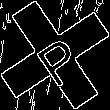P_NW: (25, 24, 85, 86)
